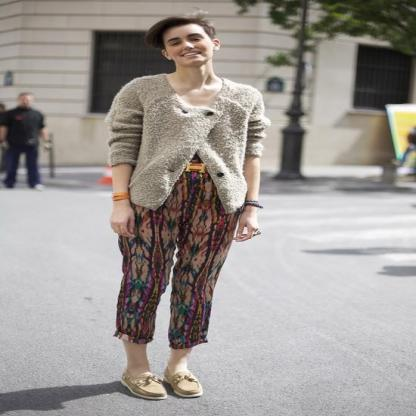pants: (113, 162, 231, 350)
polar: (105, 72, 271, 214)
